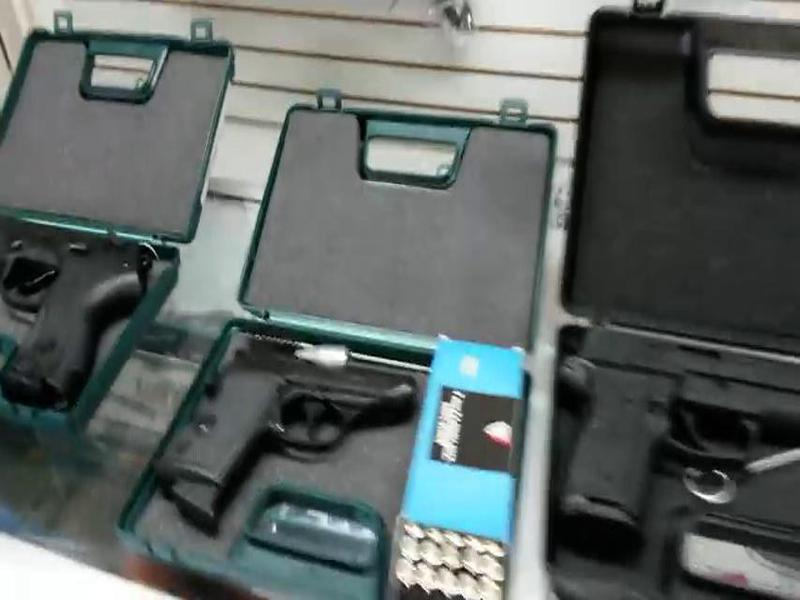Pistola: (157, 307, 434, 543), (553, 299, 800, 557)
